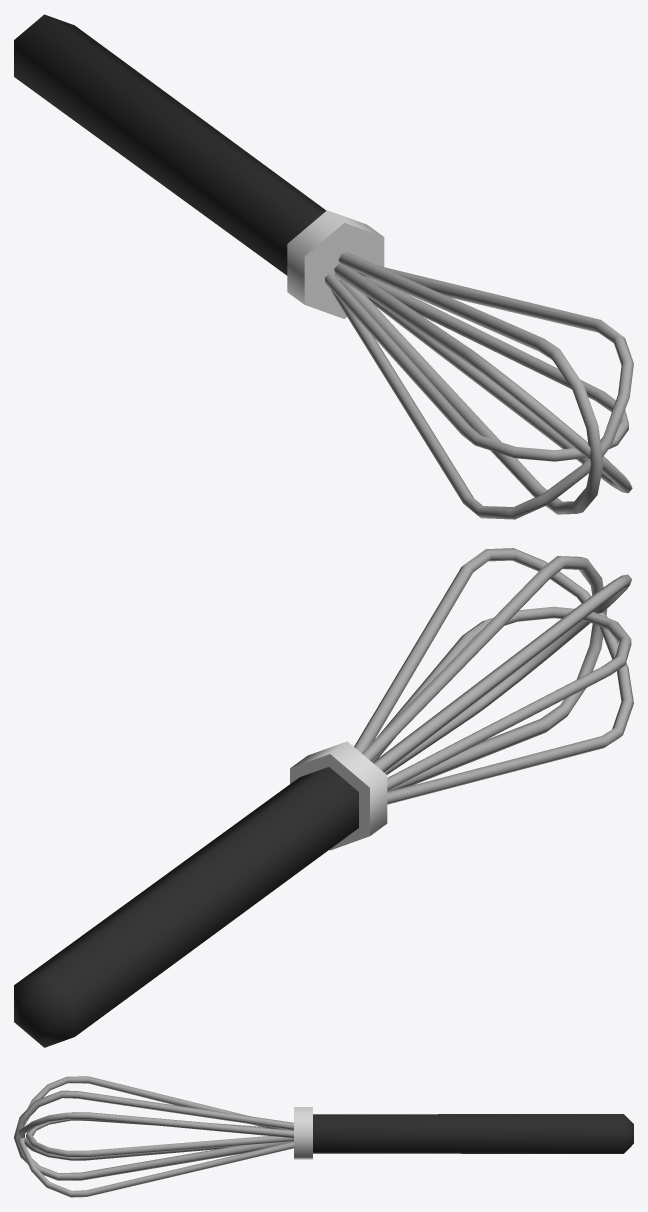
Rendered from Whisk_01.fbx.
3 views of the same model, one above another, from view 1: azimuth 30°, elevation 25°; view 2: azimuth 150°, elevation 25°; view 3: azimuth 270°, elevation 25° (orthographic). The views are drawn at different scales.
Parts seen in each view (by area): view 1: Whisk_01; view 2: Whisk_01; view 3: Whisk_01.
Boxes of the visible parts, box(x1,y1,x2,y2) form: Whisk_01: box(14, 14, 633, 519); Whisk_01: box(14, 548, 633, 1047); Whisk_01: box(14, 1076, 633, 1197).
Size of the model in its own units: 0.0381 by 0.0401 by 0.2545.
